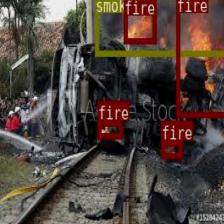fire: (175, 0, 224, 115), (122, 0, 155, 42), (97, 120, 121, 138), (160, 140, 182, 158)
smoke: (94, 0, 224, 55)
